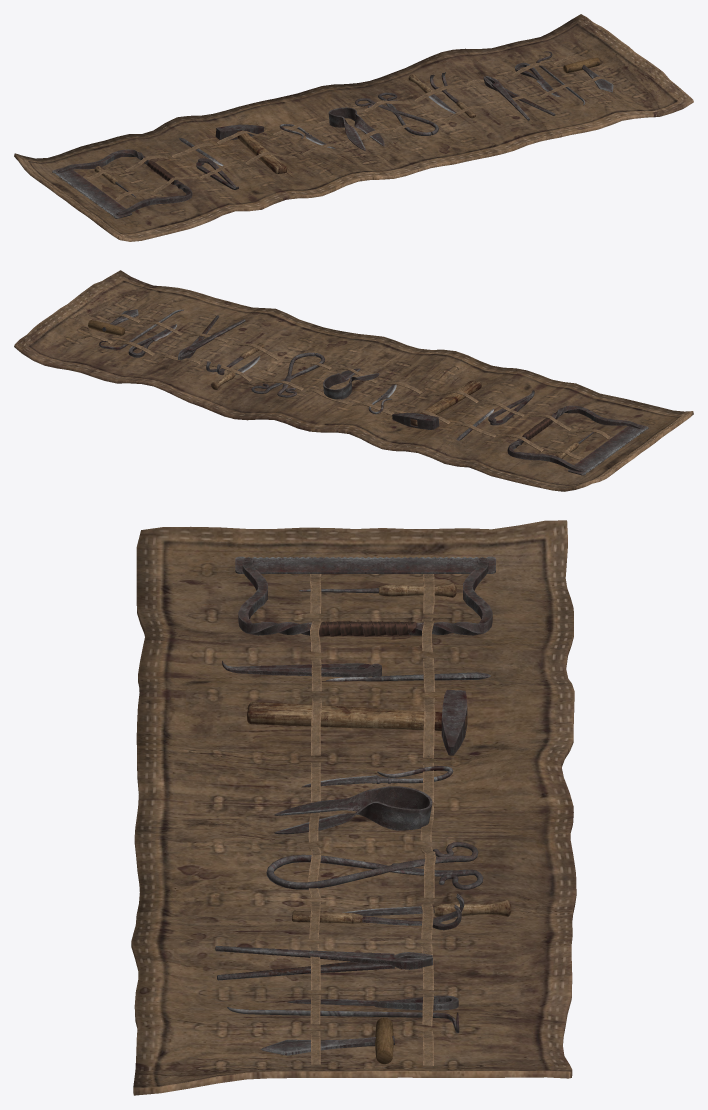
File: torture_tools.glb
3 views of the same model, one above another, from view 1: azimuth 30°, elevation 25°; view 2: azimuth 150°, elevation 25°; view 3: azimuth 270°, elevation 25° (orthographic). The views are drawn at different scales.
Parts seen in each view (by area): view 1: tortureTool.014_tortureTools_0_24, tortureTool.012_tortureTools_0_30, tortureTool.004_tortureTools_0_12, tortureTool.001_tortureTools_0_6, tortureTool.011_tortureTools_0_28, tortureTool.008_tortureTools_0_20, tortureTool.010_tortureTools_0_26, tortureTool.006_tortureTools_0_16; view 2: tortureTool.014_tortureTools_0_24, tortureTool.012_tortureTools_0_30, tortureTool.004_tortureTools_0_12, tortureTool.001_tortureTools_0_6, tortureTool.011_tortureTools_0_28, tortureTool.010_tortureTools_0_26, tortureTool.008_tortureTools_0_20, tortureTool.006_tortureTools_0_16, tortureTool.007_tortureTools_0_18; view 3: tortureTool.014_tortureTools_0_24, tortureTool.012_tortureTools_0_30, tortureTool.004_tortureTools_0_12, tortureTool.001_tortureTools_0_6, tortureTool.011_tortureTools_0_28, tortureTool.010_tortureTools_0_26, tortureTool.008_tortureTools_0_20, tortureTool.006_tortureTools_0_16, tortureTool.002_tortureTools_0_8, tortureTool.013_tortureTools_0_32, tortureTool.007_tortureTools_0_18, tortureTool_tortureTools_0_4 (+3 smaller).
Boxes of the visible parts, left/top/right/bottom form: tortureTool.014_tortureTools_0_24: left=14, top=14, right=693, bottom=241; tortureTool.012_tortureTools_0_30: left=52, top=149, right=192, bottom=218; tortureTool.004_tortureTools_0_12: left=215, top=124, right=287, bottom=173; tortureTool.001_tortureTools_0_6: left=328, top=107, right=384, bottom=150; tortureTool.011_tortureTools_0_28: left=355, top=92, right=438, bottom=135; tortureTool.008_tortureTools_0_20: left=563, top=57, right=613, bottom=92; tortureTool.010_tortureTools_0_26: left=483, top=76, right=555, bottom=120; tortureTool.006_tortureTools_0_16: left=196, top=158, right=238, bottom=189; tortureTool.014_tortureTools_0_24: left=14, top=270, right=693, bottom=491; tortureTool.012_tortureTools_0_30: left=507, top=405, right=648, bottom=475; tortureTool.004_tortureTools_0_12: left=392, top=380, right=481, bottom=429; tortureTool.001_tortureTools_0_6: left=323, top=368, right=379, bottom=399; tortureTool.011_tortureTools_0_28: left=251, top=352, right=324, bottom=397; tortureTool.010_tortureTools_0_26: left=178, top=315, right=245, bottom=360; tortureTool.008_tortureTools_0_20: left=88, top=309, right=138, bottom=335; tortureTool.006_tortureTools_0_16: left=488, top=390, right=534, bottom=425; tortureTool.007_tortureTools_0_18: left=128, top=324, right=176, bottom=357; tortureTool.014_tortureTools_0_24: left=131, top=520, right=576, bottom=1095; tortureTool.012_tortureTools_0_30: left=235, top=556, right=495, bottom=636; tortureTool.004_tortureTools_0_12: left=247, top=689, right=467, bottom=755; tortureTool.001_tortureTools_0_6: left=274, top=786, right=432, bottom=834; tortureTool.011_tortureTools_0_28: left=266, top=842, right=483, bottom=889; tortureTool.010_tortureTools_0_26: left=215, top=946, right=432, bottom=980; tortureTool.008_tortureTools_0_20: left=261, top=1017, right=394, bottom=1064; tortureTool.006_tortureTools_0_16: left=222, top=661, right=381, bottom=677; tortureTool.002_tortureTools_0_8: left=292, top=893, right=464, bottom=930; tortureTool.013_tortureTools_0_32: left=342, top=899, right=511, bottom=916; tortureTool.007_tortureTools_0_18: left=287, top=995, right=458, bottom=1010; tortureTool_tortureTools_0_4: left=227, top=1007, right=459, bottom=1033.
Bounding box in the file's own units: 407 × 14.97 × 137.
1 material, 1 textured.
